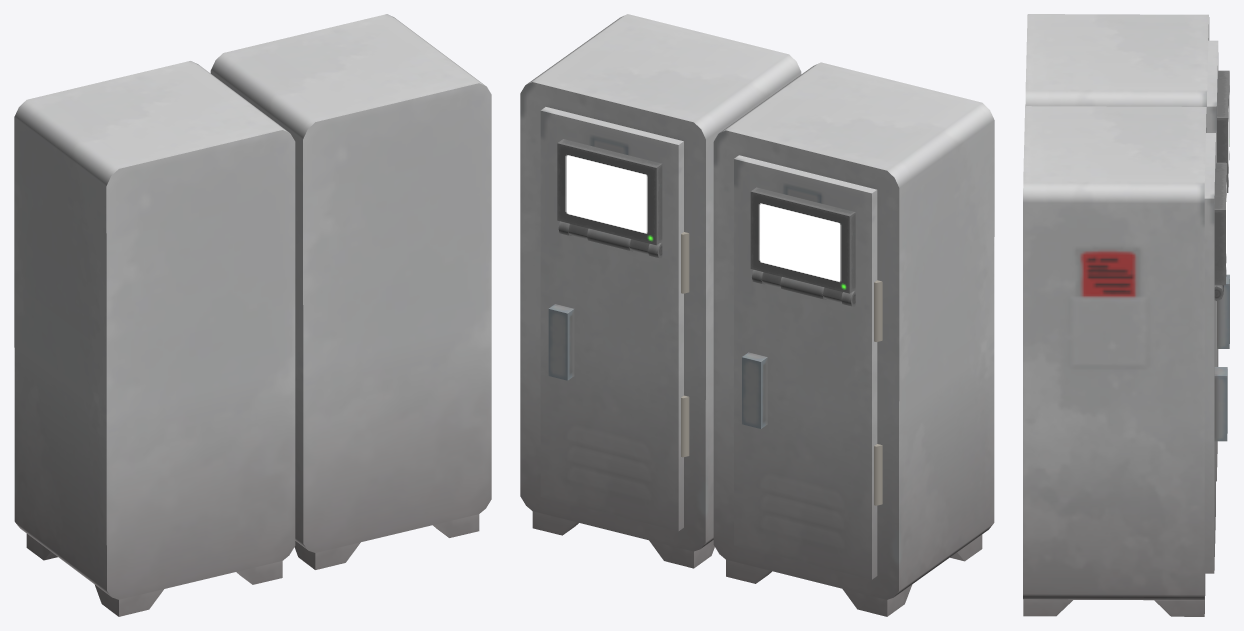
Rendered from PlayerStorage.fbx.
3 views of the same model, side by side, from view 1: azimuth 30°, elevation 25°; view 2: azimuth 150°, elevation 25°; view 3: azimuth 270°, elevation 25° (orthographic). The views are drawn at different scales.
Parts seen in each view (by area): view 1: Mat_Locker_01_04 noMetal; view 2: Mat_Locker_01_04 noMetal, Mat_Computer_01_02; view 3: Mat_Locker_01_04 noMetal, Mat_Computer_01_02.
Part boxes in pixels (<box>): Mat_Locker_01_04 noMetal: <box>14,14,491,616</box>; Mat_Locker_01_04 noMetal: <box>520,14,994,616</box>; Mat_Computer_01_02: <box>557,139,855,306</box>; Mat_Locker_01_04 noMetal: <box>1023,14,1229,616</box>; Mat_Computer_01_02: <box>1214,70,1229,300</box>.
Size of the model in its own units: 1.79 by 1.99 by 0.8635.
2 materials, 2 textured.
